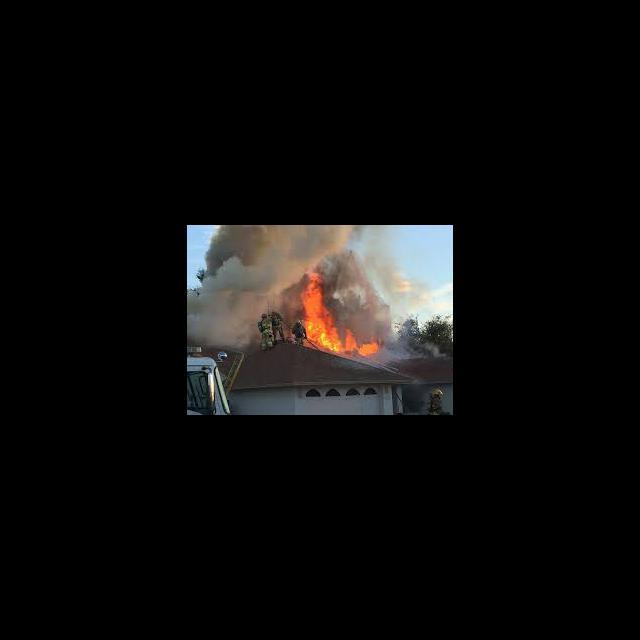Fire: (299, 272, 381, 358)
Smoke: (187, 226, 298, 342)
